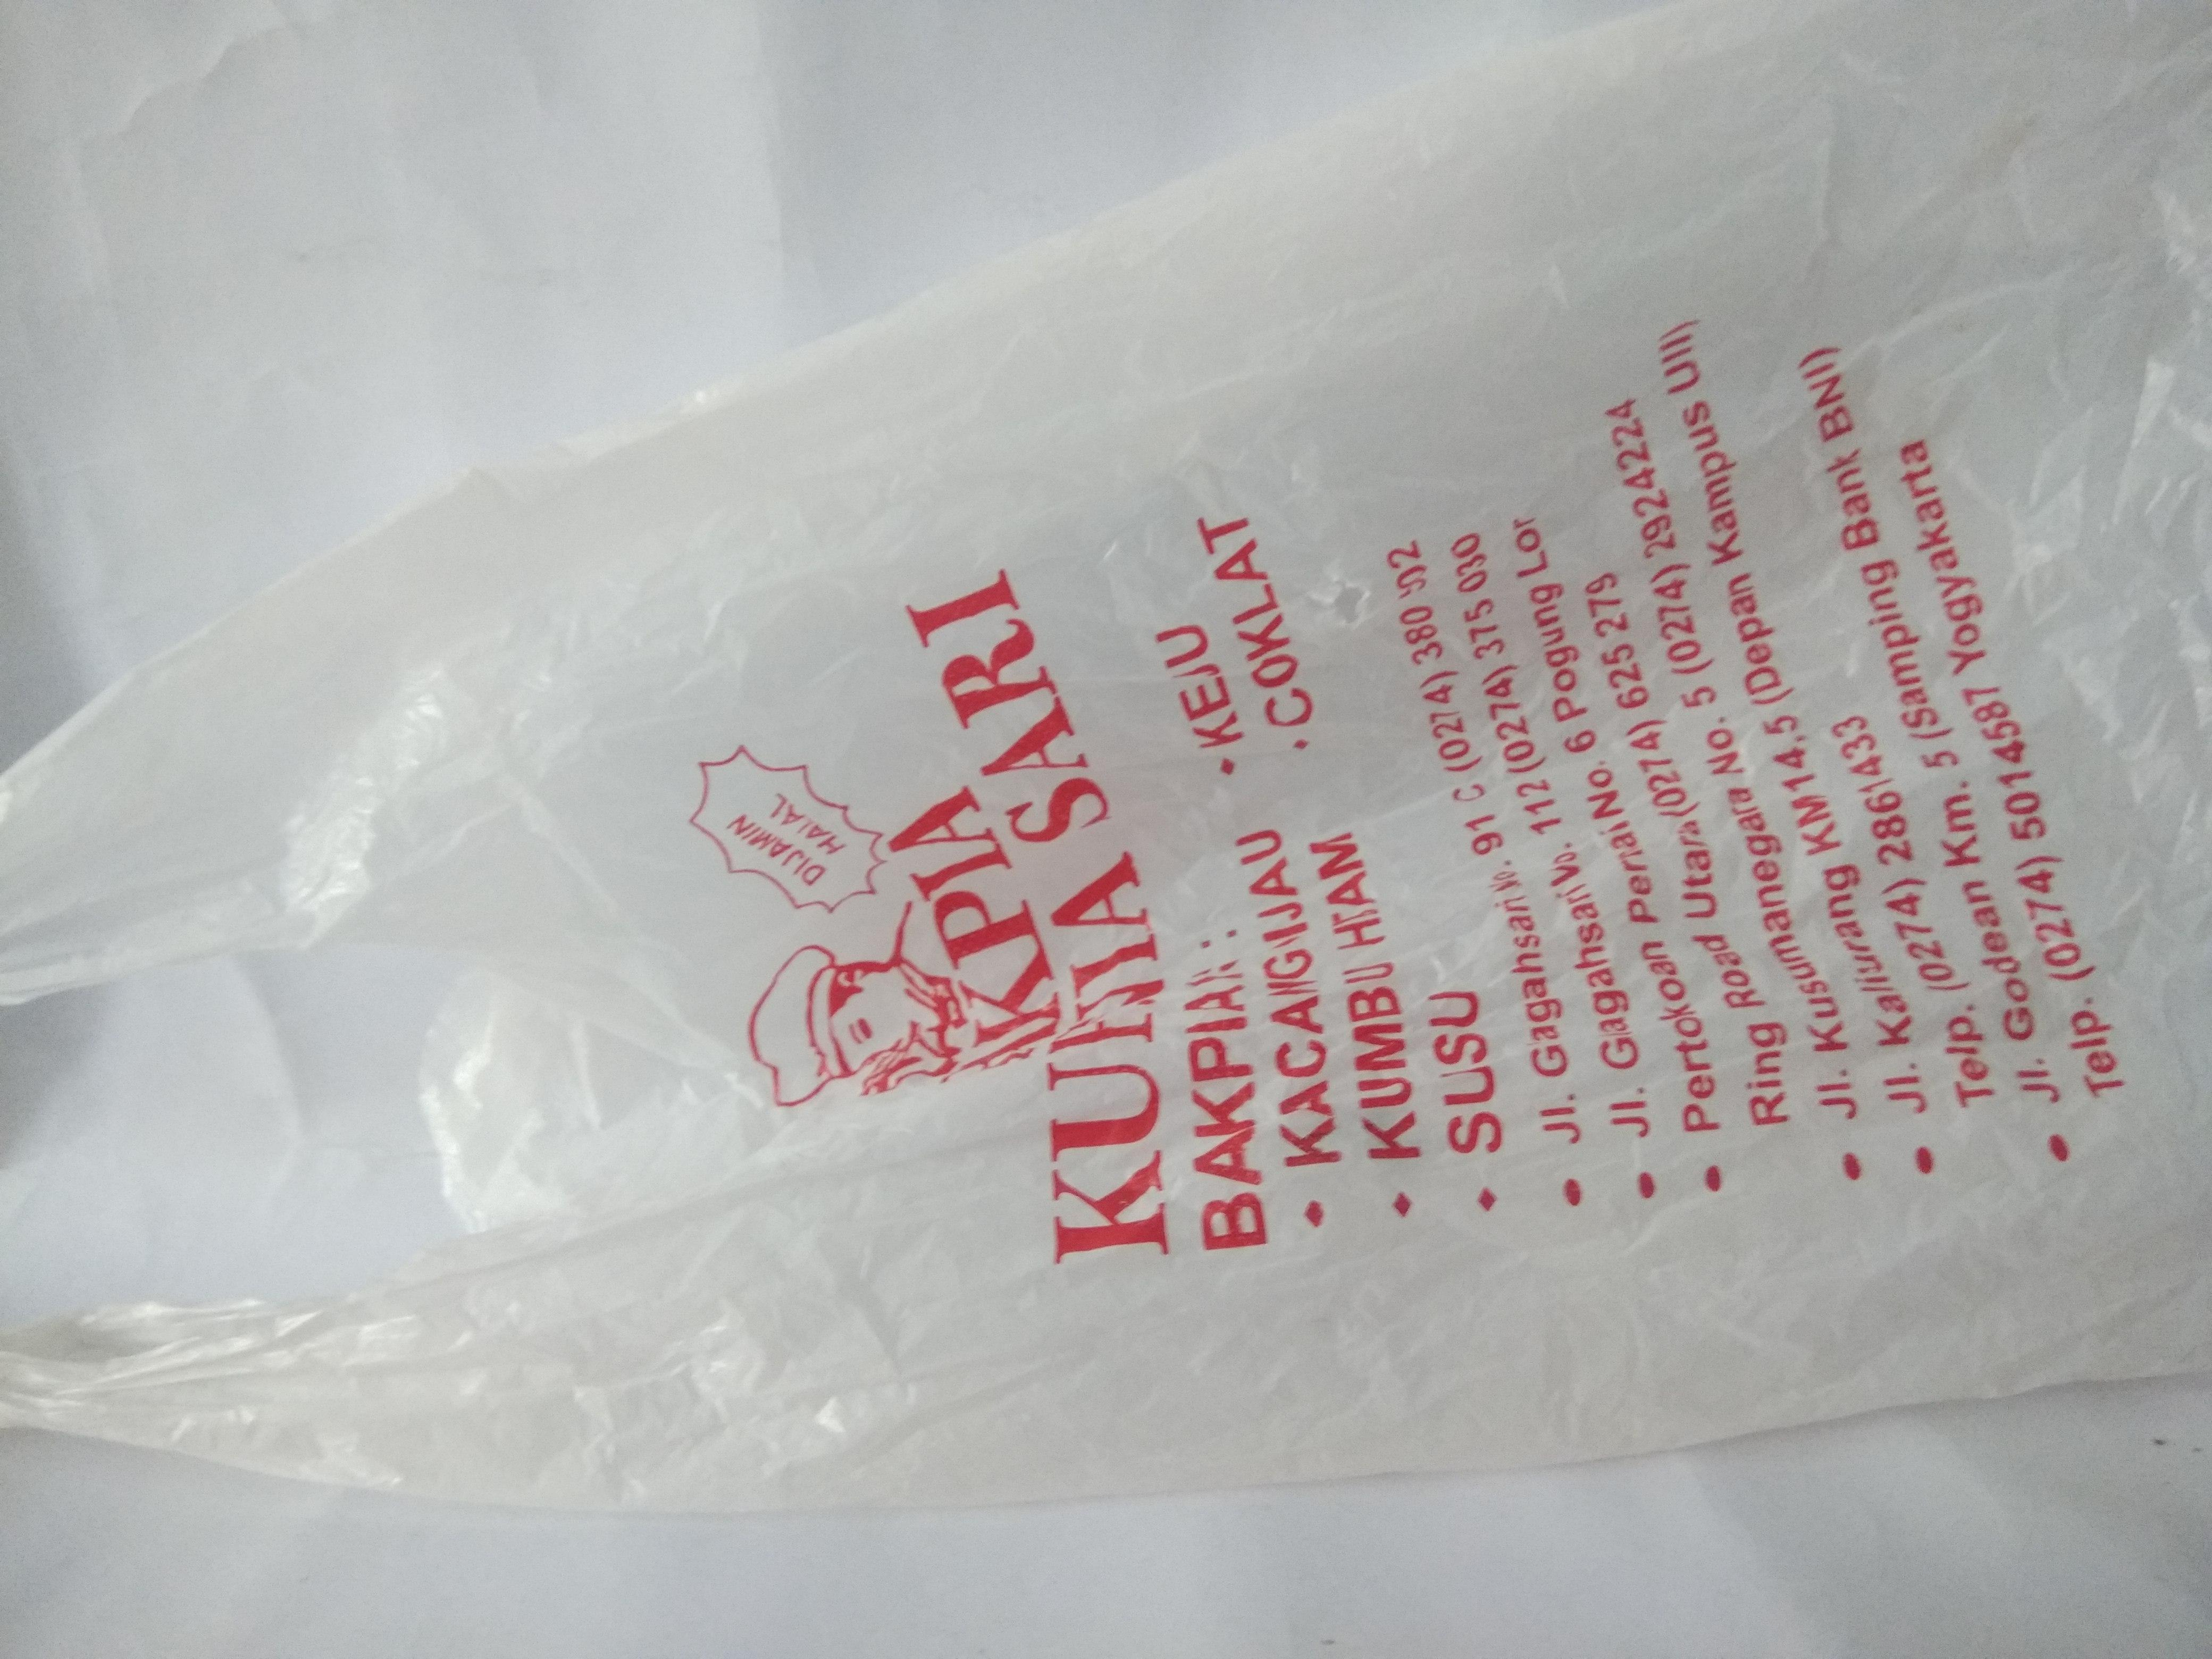LDPE: (0, 0, 2212, 1514)
